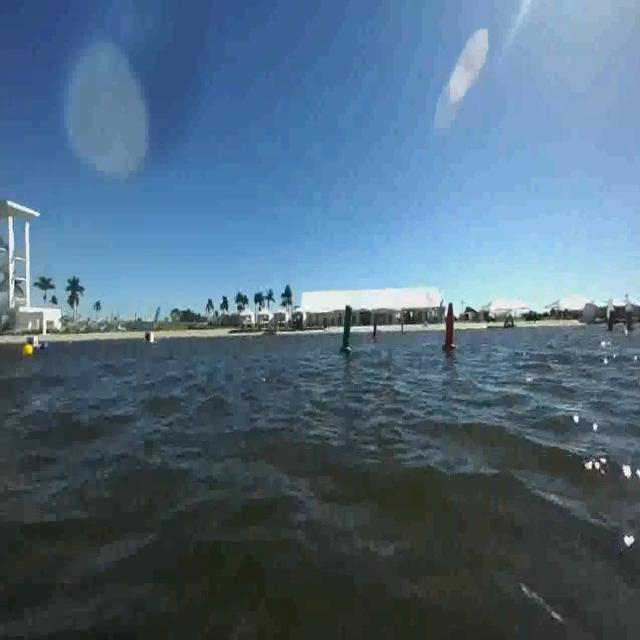green-column-buoy: (340, 304, 357, 356)
red-column-buoy: (443, 302, 458, 352)
yellow-duck: (24, 343, 35, 358)
